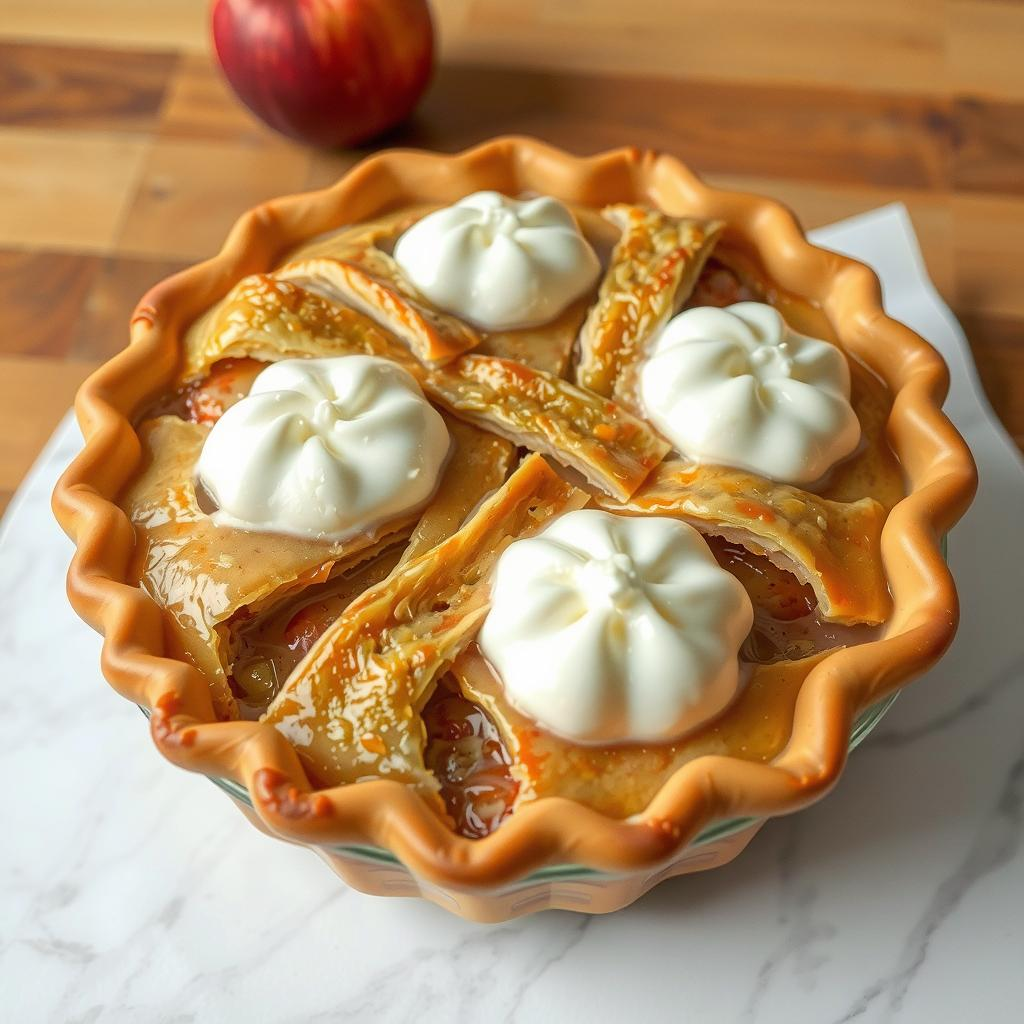pie: (36, 129, 990, 936)
